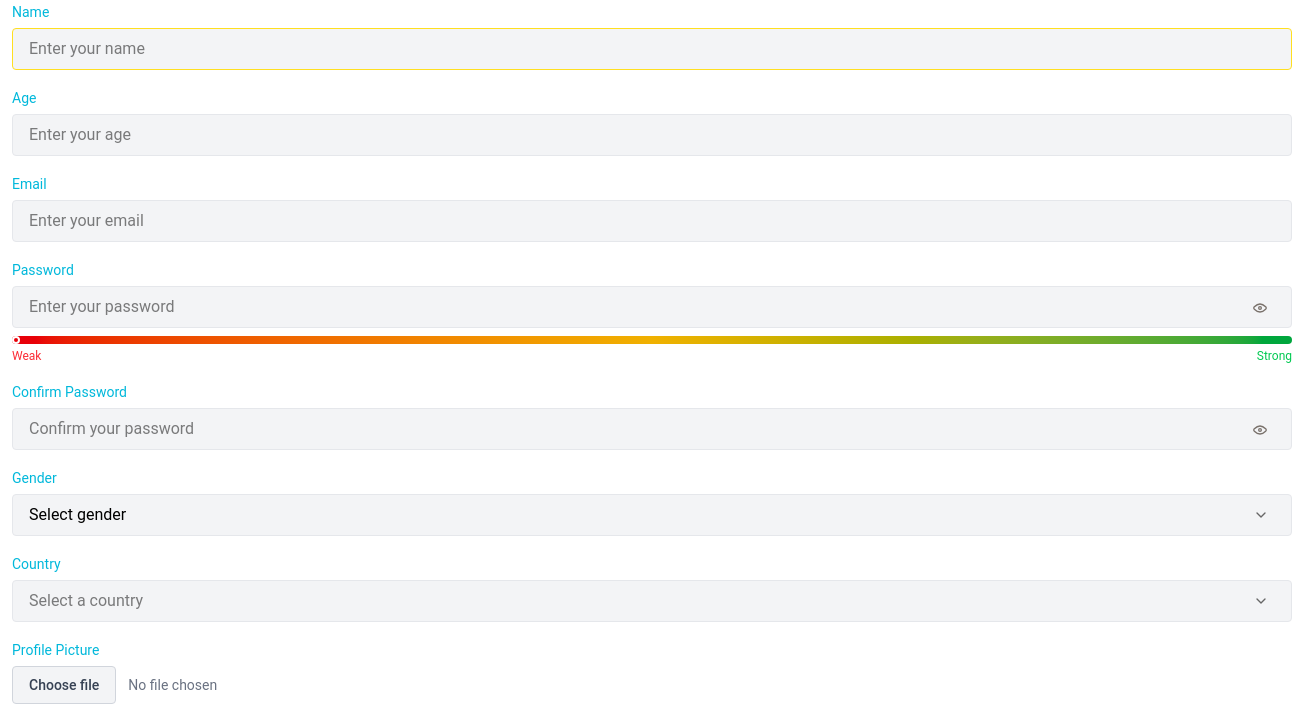
Test: ControlledForm shows password mismatch error when passwords do not match
The image size is (1304, 720).
Type "Password123!" into the password field labelled "Password" at [652, 307], box [12,286,1292,328]
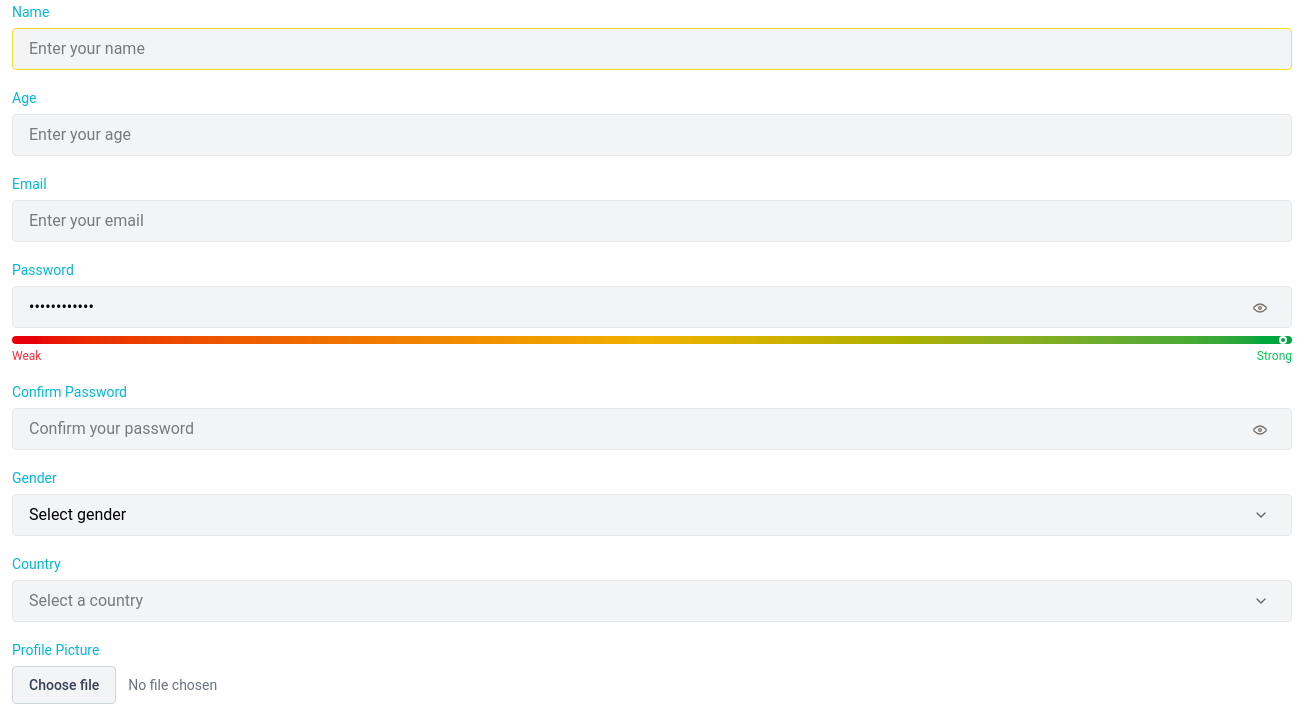
Type "DifferentPassword123!" into the password field labelled "Confirm Password" at [652, 429], box [12,408,1292,450]
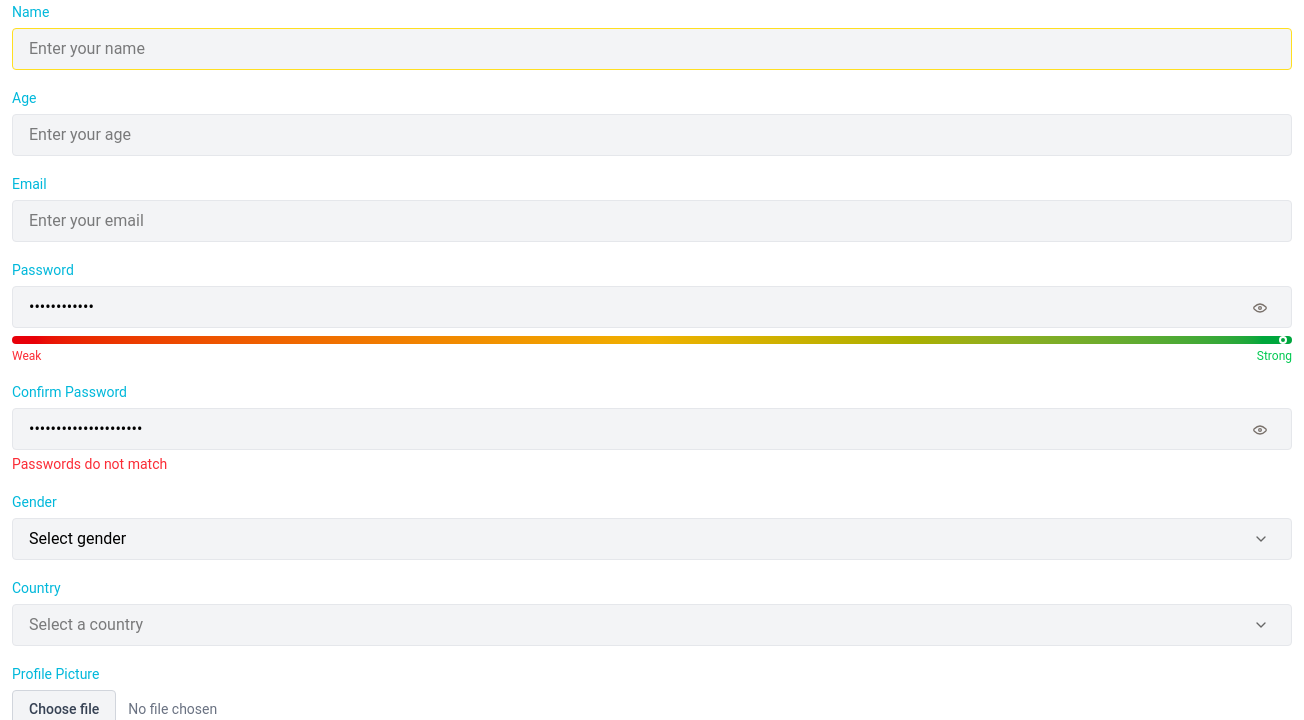
Expected: the text "Passwords do not match" is shown, [12,456,167,472]
